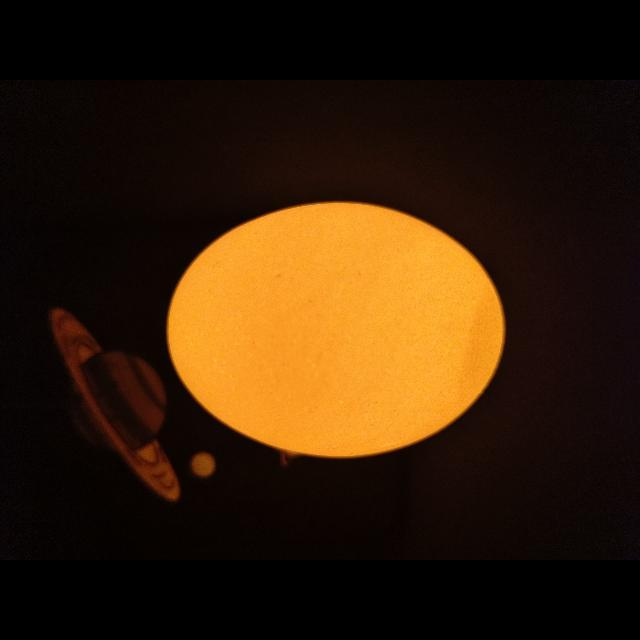AA - Premium: (168, 203, 504, 458)
